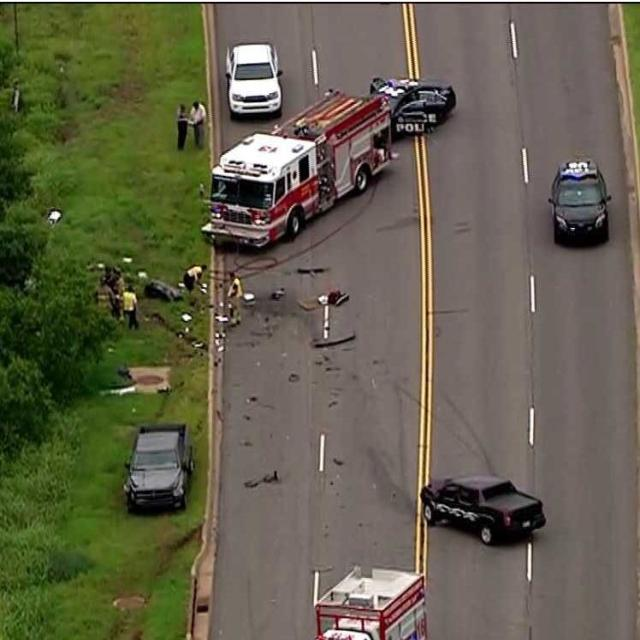traffic_incident: (115, 233, 225, 530)
